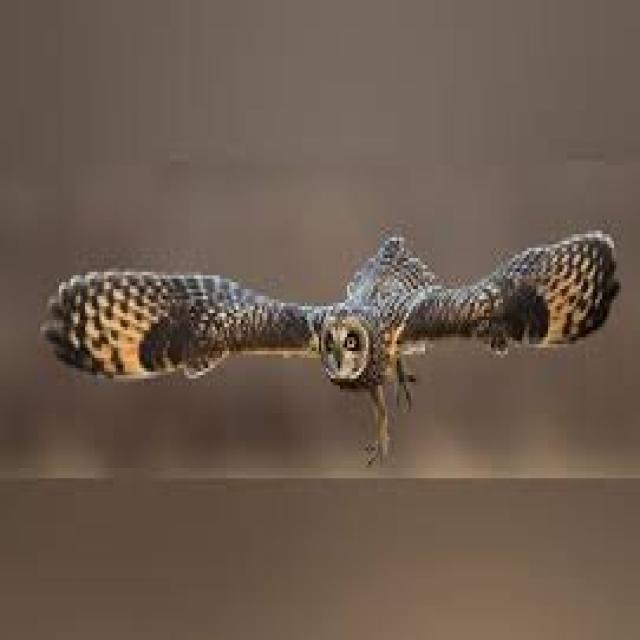Owl: (31, 218, 624, 470)
